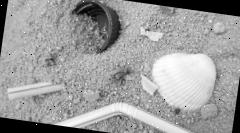general: (47, 91, 234, 133), (3, 75, 64, 107)
